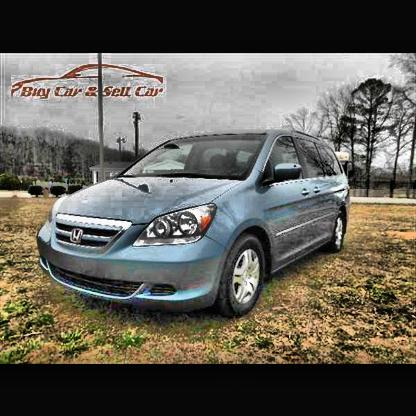Honda Odyssey Minivan 2007: (37, 129, 351, 316)
